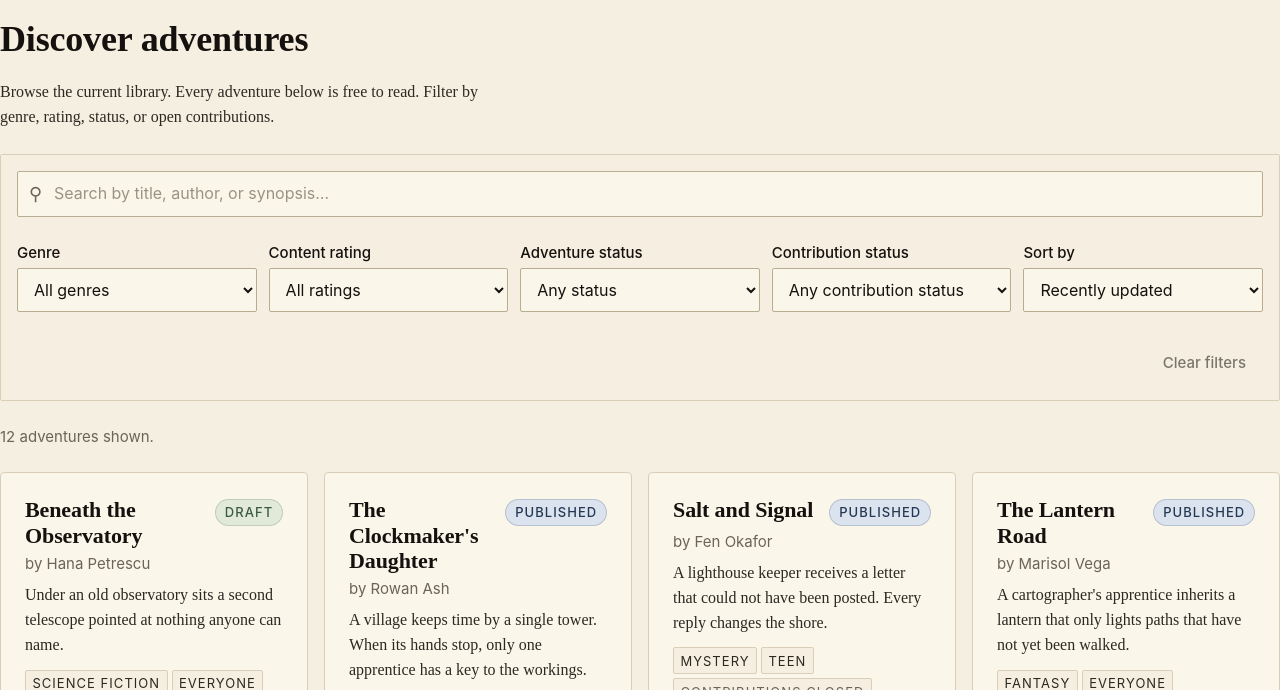
Discover — empty state › shows the empty state when no adventure matches
The image size is (1280, 690).
Type "zzz-nothing-matches-zzz" into the search field with test id "discover-search".
click(640, 194); type("zzz-nothing-matches-zzz")  # box [17,171,1263,217]
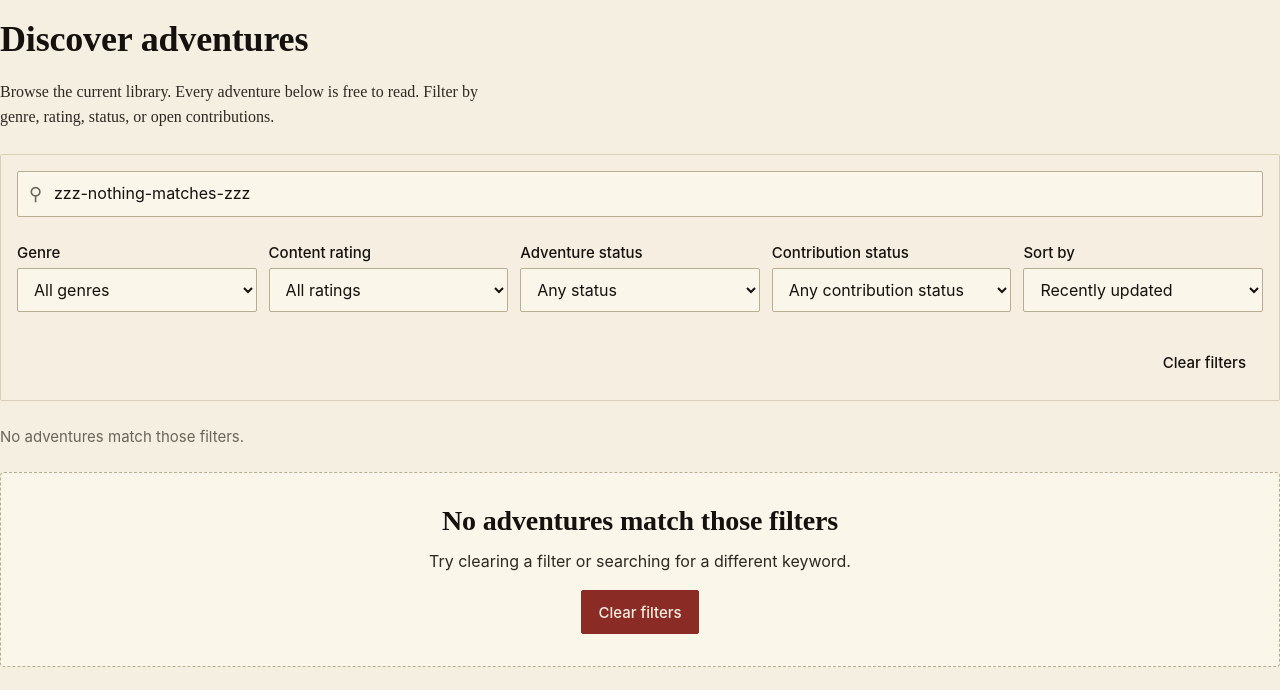
Expected: the element with test id "empty-state" is shown, [0,472,1279,667]
Click the 2nd button "Clear filters".
click(640, 612)  # box [581,590,699,634]
(page scrolled)
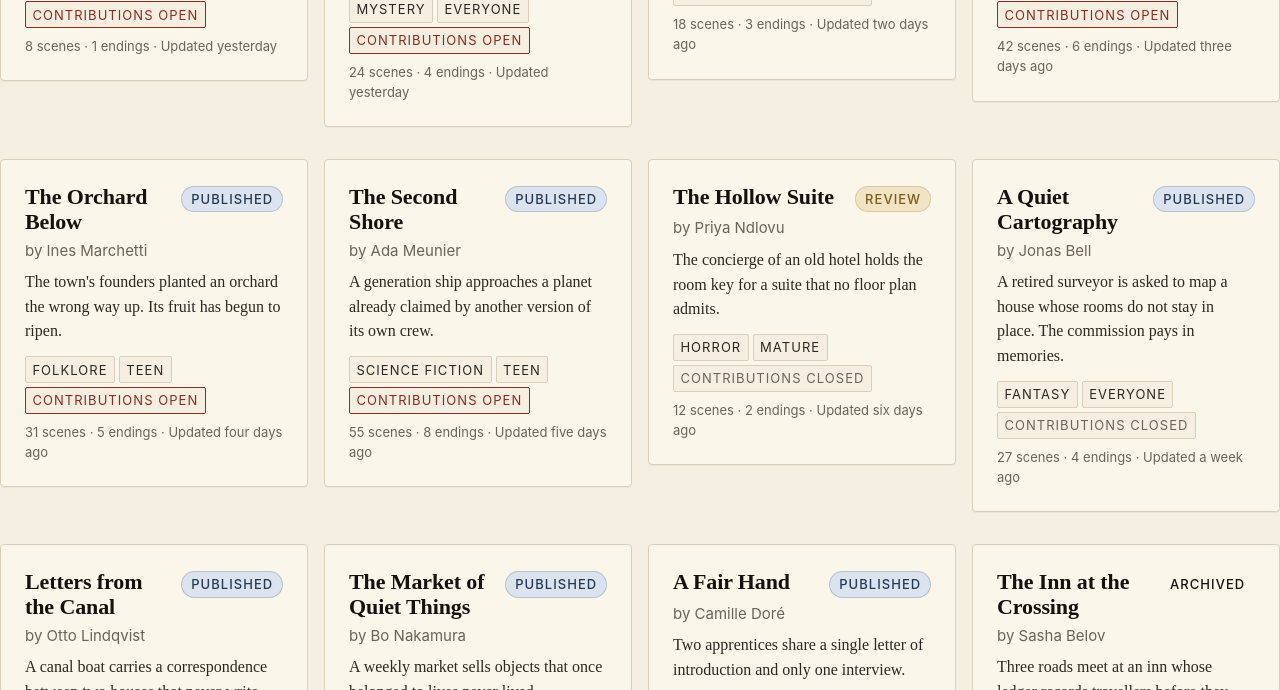
Expected: the element with test id "empty-state" is gone
